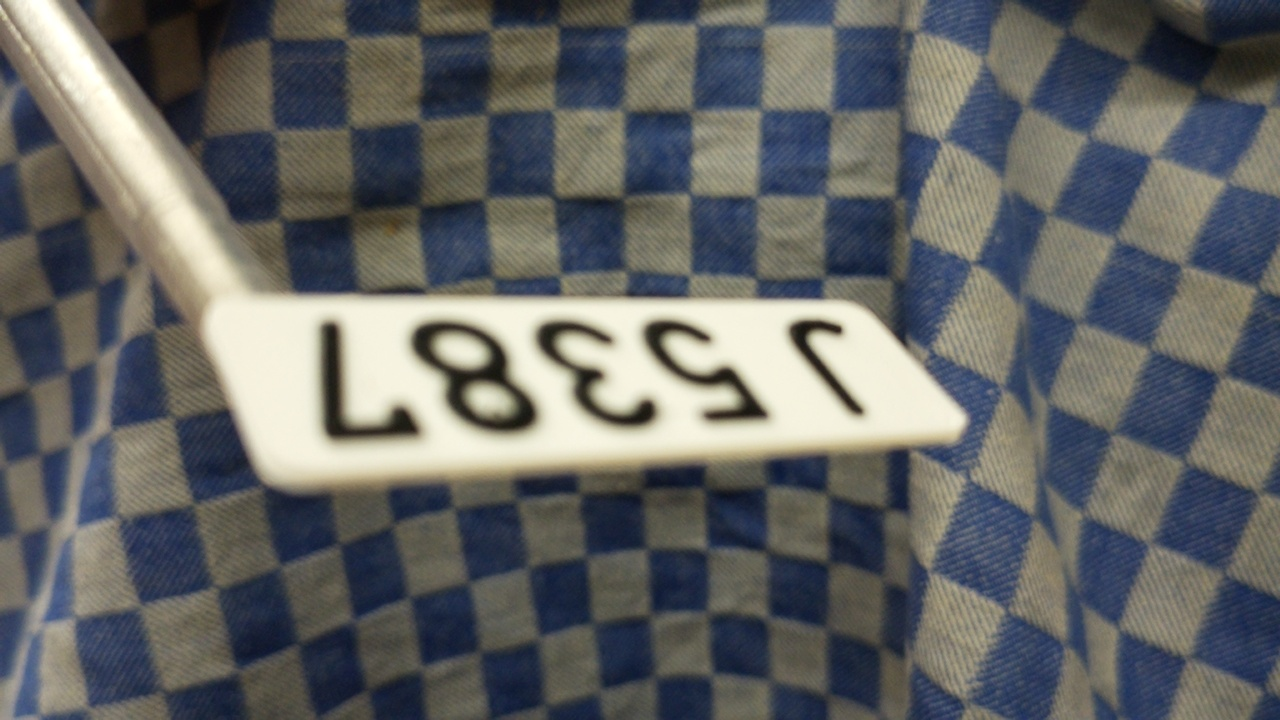license_plate: (194, 286, 973, 496)
